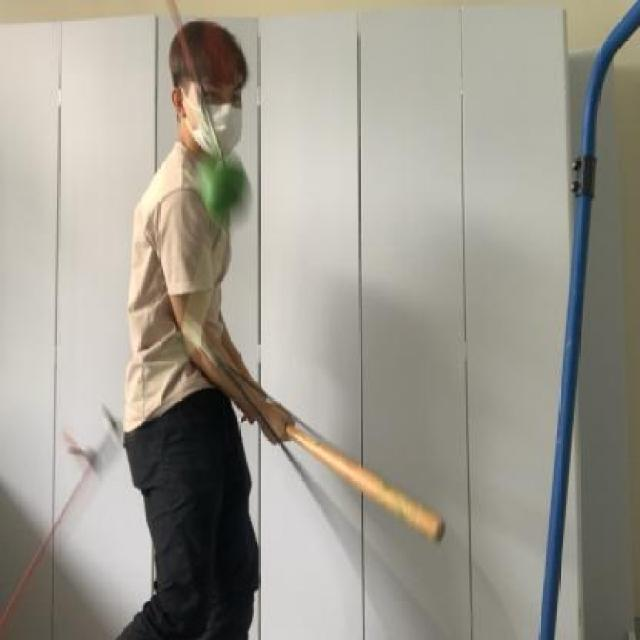baseball: (193, 144, 259, 245)
